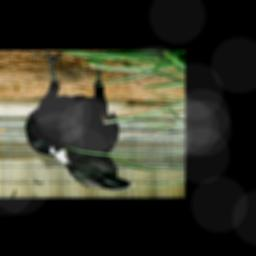Crow: (25, 52, 136, 191)
